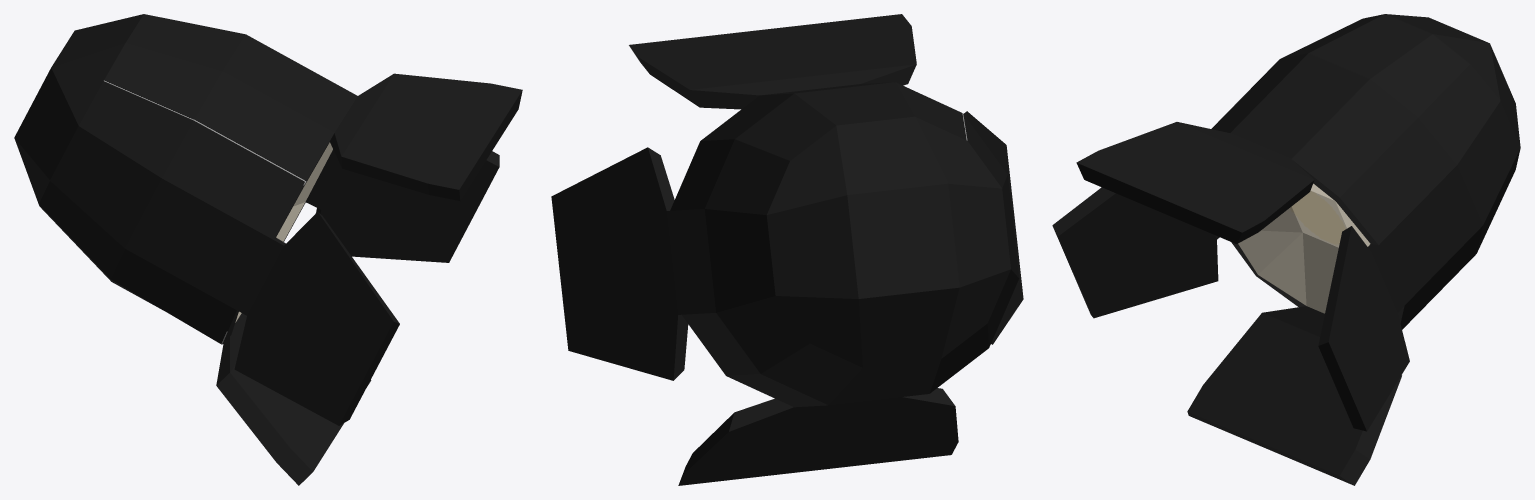
File: spotlightTop.fbx
The picture shows the model from 3 angles, left to right: view 1: azimuth 30°, elevation 25°; view 2: azimuth 150°, elevation 25°; view 3: azimuth 270°, elevation 25°; orthographic projection. The views are drawn at different scales.
Visible parts, largest first — view 1: Cube.001; view 2: Cube.001; view 3: Cube.001.
Part boxes in pixels (box(x1,y1,x2,y2)): Cube.001: box(14, 14, 522, 485); Cube.001: box(551, 14, 1023, 485); Cube.001: box(1052, 14, 1520, 485).
Bounding box in the file's own units: 360 × 313 × 360.
1 material, 1 textured.
